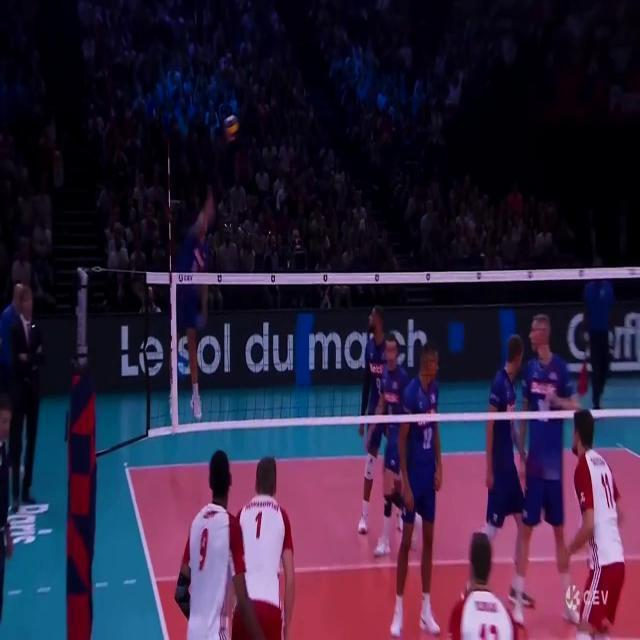volleyball: (223, 116, 240, 142)
